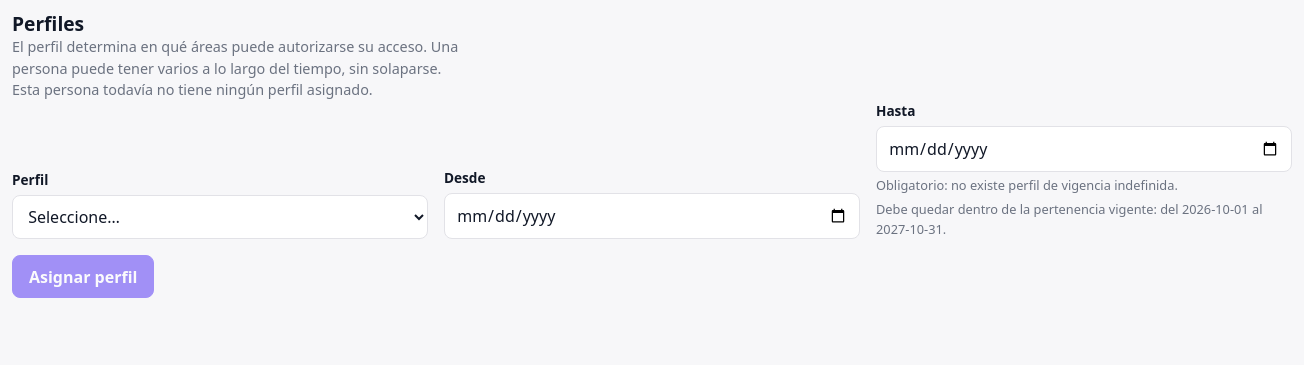
Scenario: PerfilesPersona › muestra un mensaje propio para FUERA_DE_CONTENCION_TEMPORAL
Select "Trabajador" in the dropdown labelled "Perfil": (220, 217) [12,195,428,239]
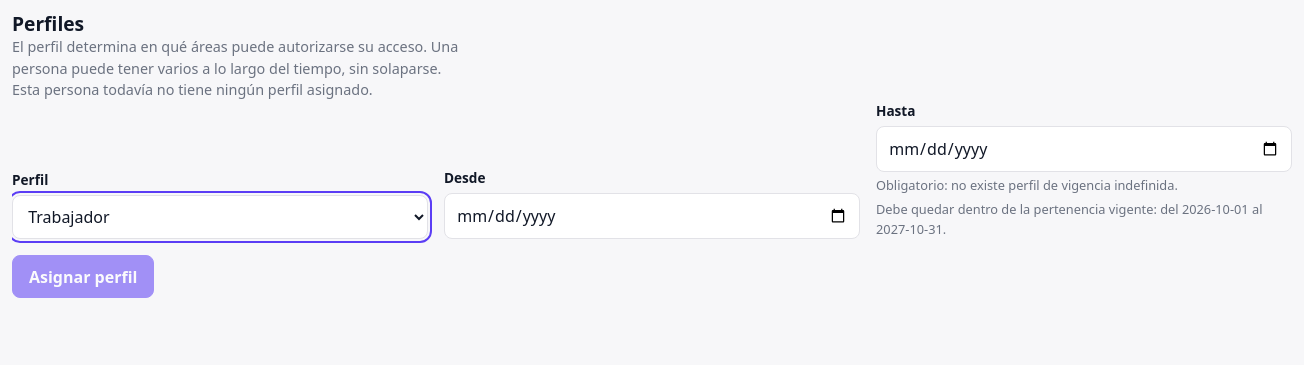
In the date field labelled "Desde": (652, 216) [444,193,860,239], type "2026-10-01"
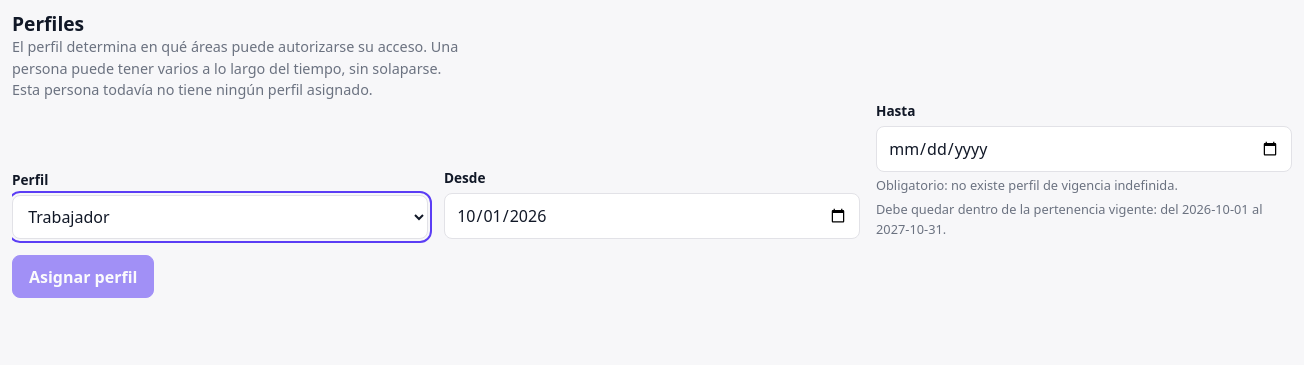
In the date field labelled "Hasta": (1084, 149) [876,126,1292,172], type "2026-12-31"
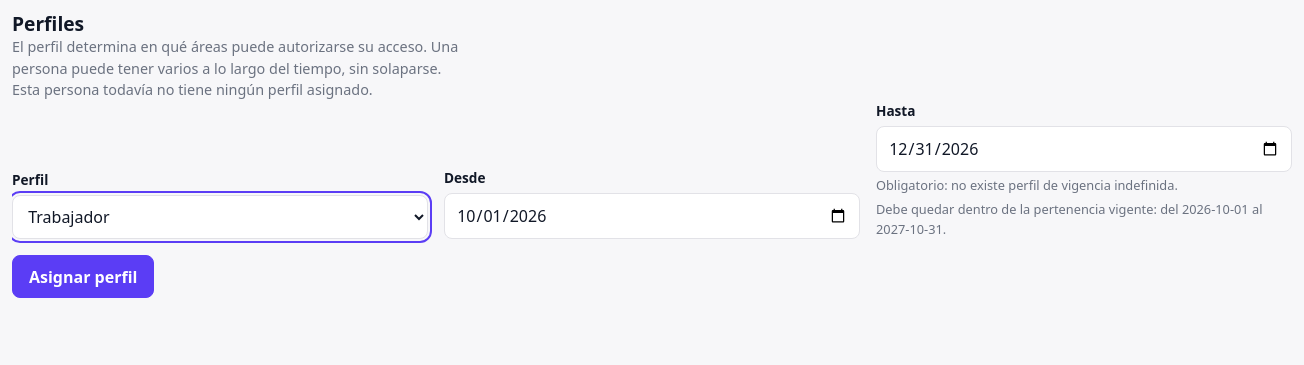
Click the button "Asignar perfil": (83, 277) [12,255,154,298]
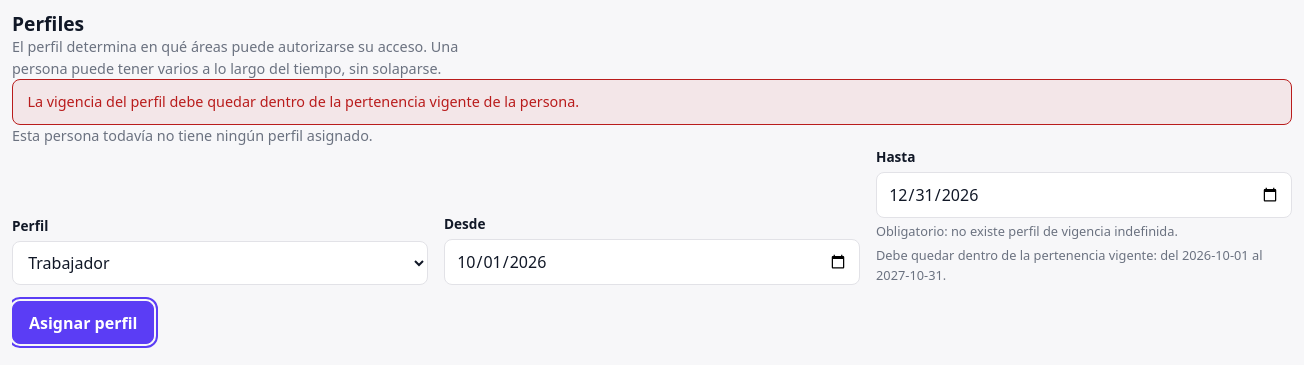
Check: the message shows "La vigencia del perfil debe quedar dentro de la pertenencia vigente de la persona.", box [27,92,579,111]
